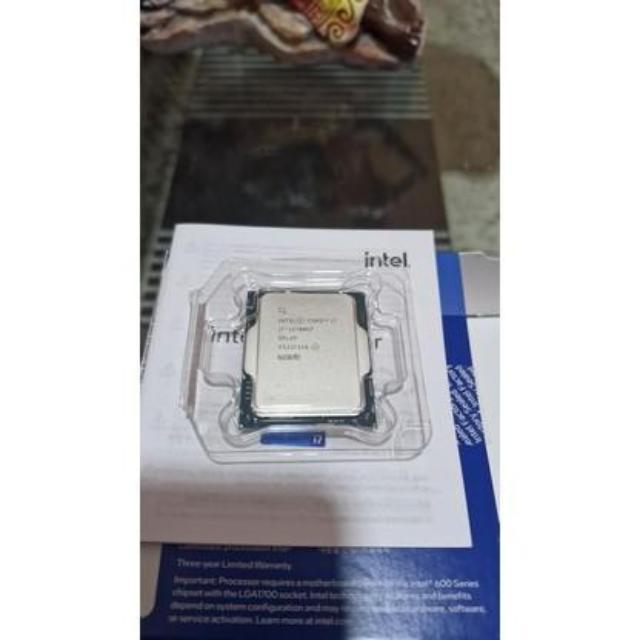CPU: (244, 284, 376, 430)
